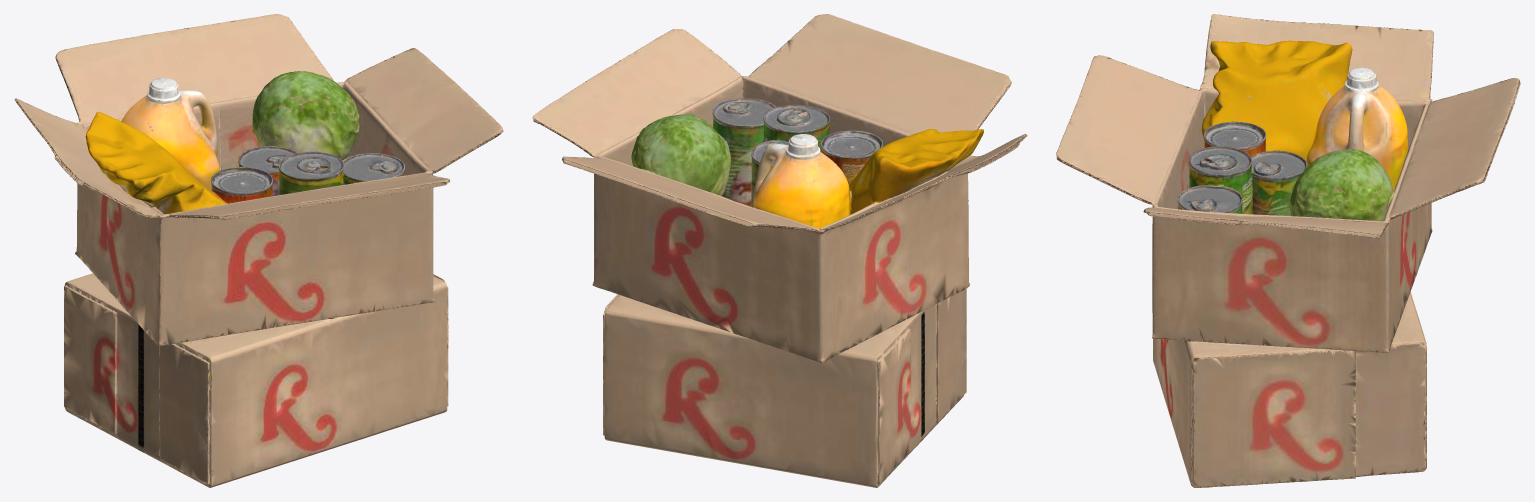
Rendered from boxes.glb.
3 views of the same model, side by side, from view 1: azimuth 30°, elevation 25°; view 2: azimuth 150°, elevation 25°; view 3: azimuth 270°, elevation 25° (orthographic).
Parts seen in each view (by area): view 1: Mesh_0; view 2: Mesh_0; view 3: Mesh_0.
Boxes of the visible parts, <box> form: Mesh_0: <box>14,14,503,487</box>; Mesh_0: <box>532,14,1027,487</box>; Mesh_0: <box>1056,14,1520,487</box>.
Bounding box in the file's own units: 0.1612 × 0.12 × 0.1581.
Materials: 1 (1 with a texture image).
